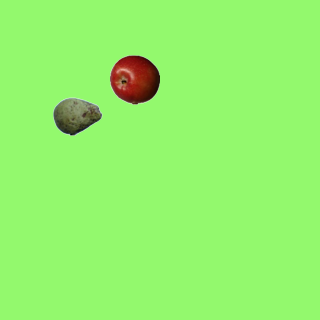Apple Braeburn: (109, 54, 159, 104)
Pear Stone: (52, 91, 102, 141)
